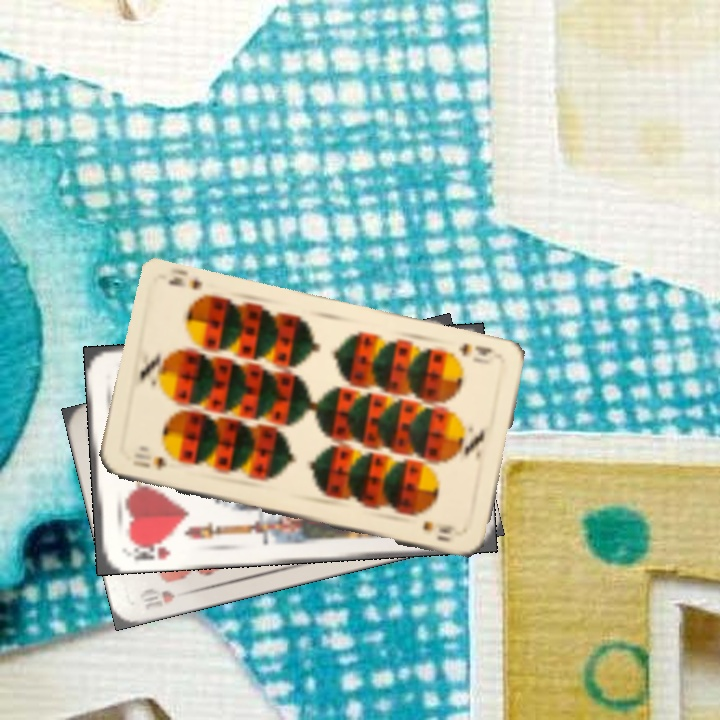H10: (139, 586, 178, 613)
HK: (125, 535, 174, 563)
S10: (443, 340, 495, 361), (129, 455, 170, 473)
